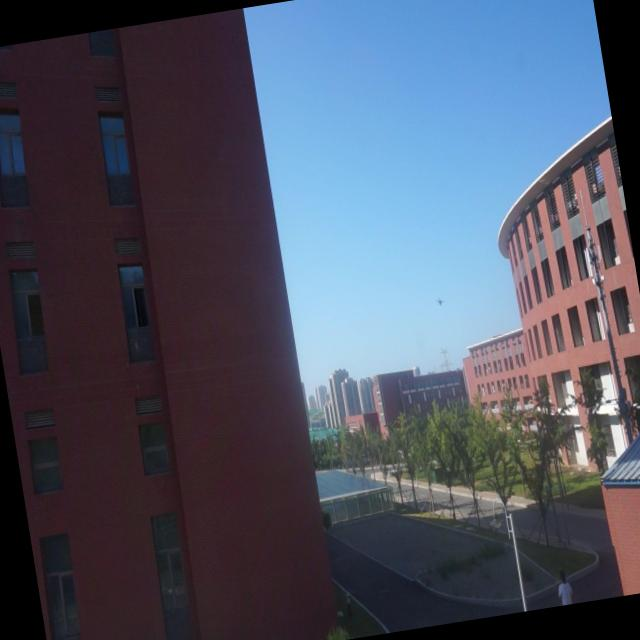drone: (432, 293, 448, 310)
